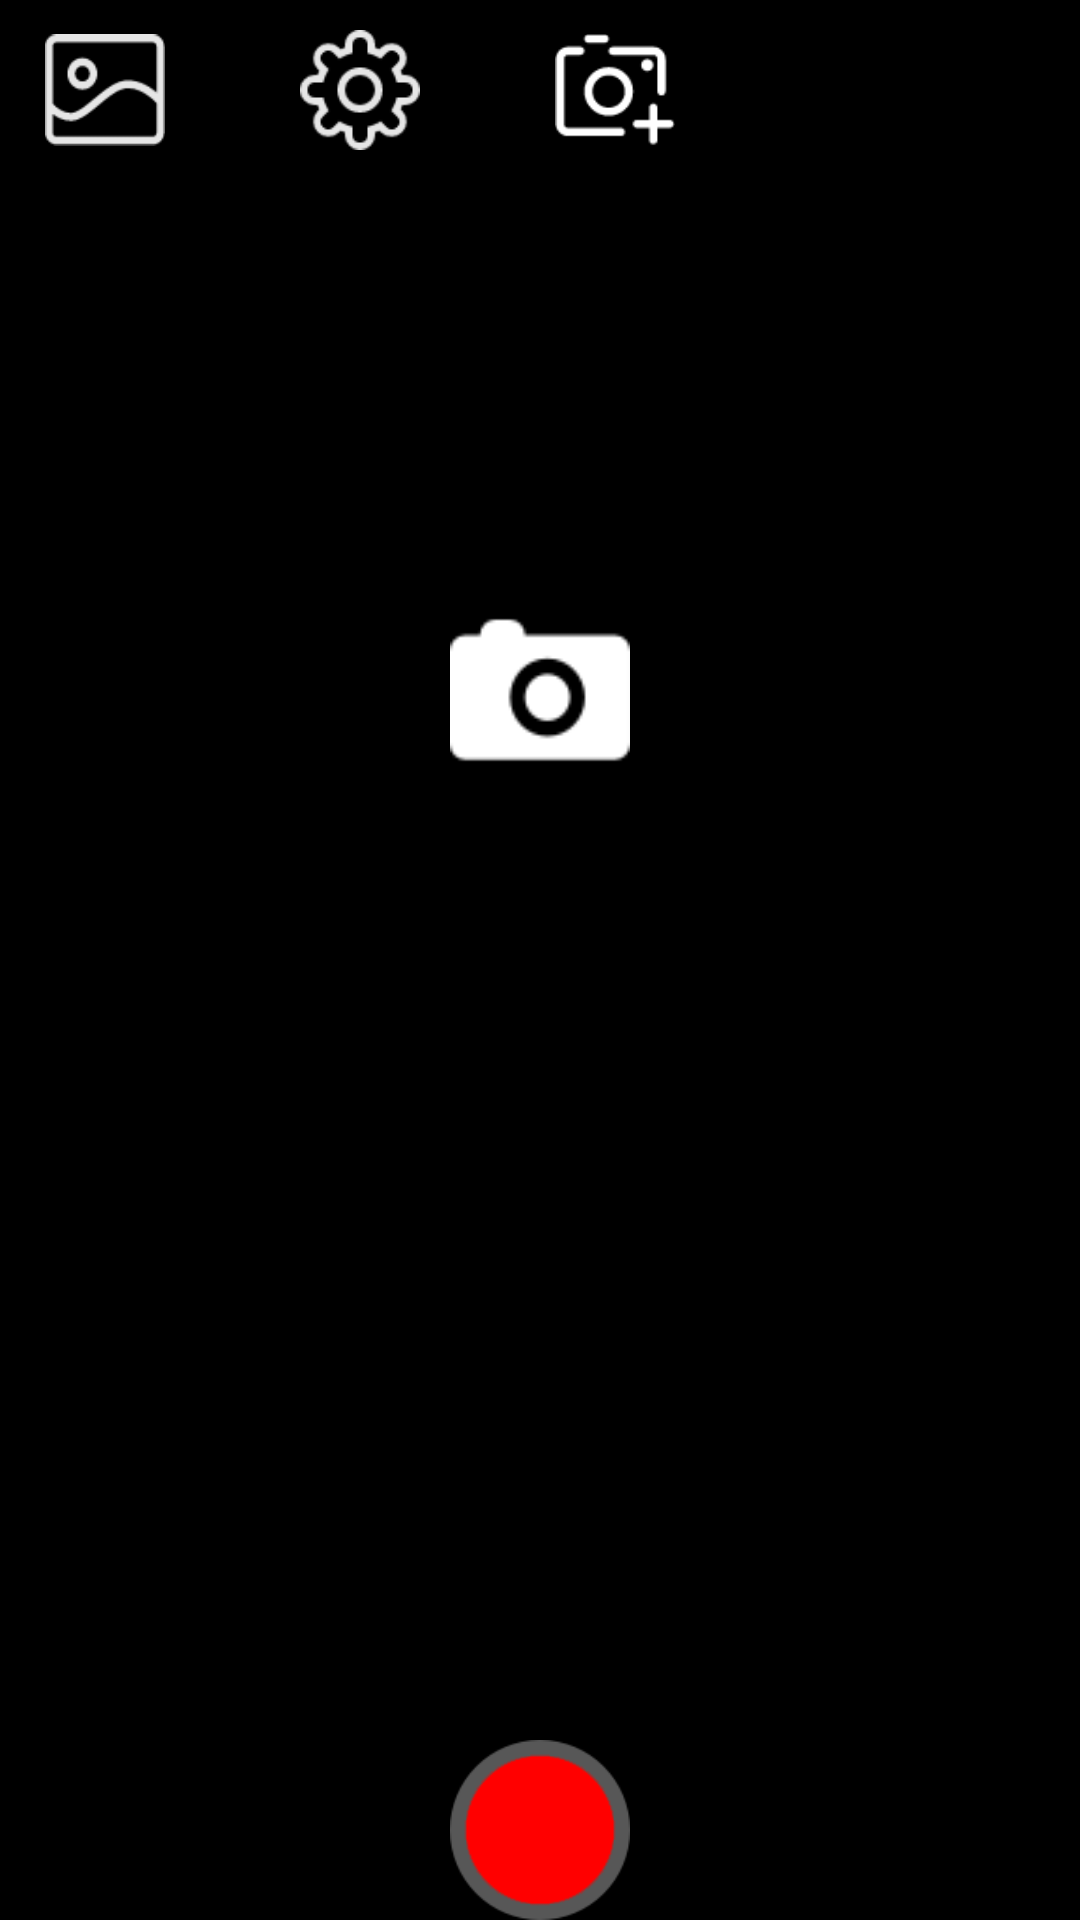

Icons on this 1080x1920 Android screen, each with its box as [x1=x1, y1=y1, x2=x2, y2=y2]:
camera: [x1=450, y1=619, x2=630, y2=761]
camera select: [x1=555, y1=34, x2=675, y2=145]
gallery: [x1=45, y1=34, x2=165, y2=146]
record onn: [x1=450, y1=1740, x2=630, y2=1920]
setting: [x1=300, y1=30, x2=420, y2=150]
